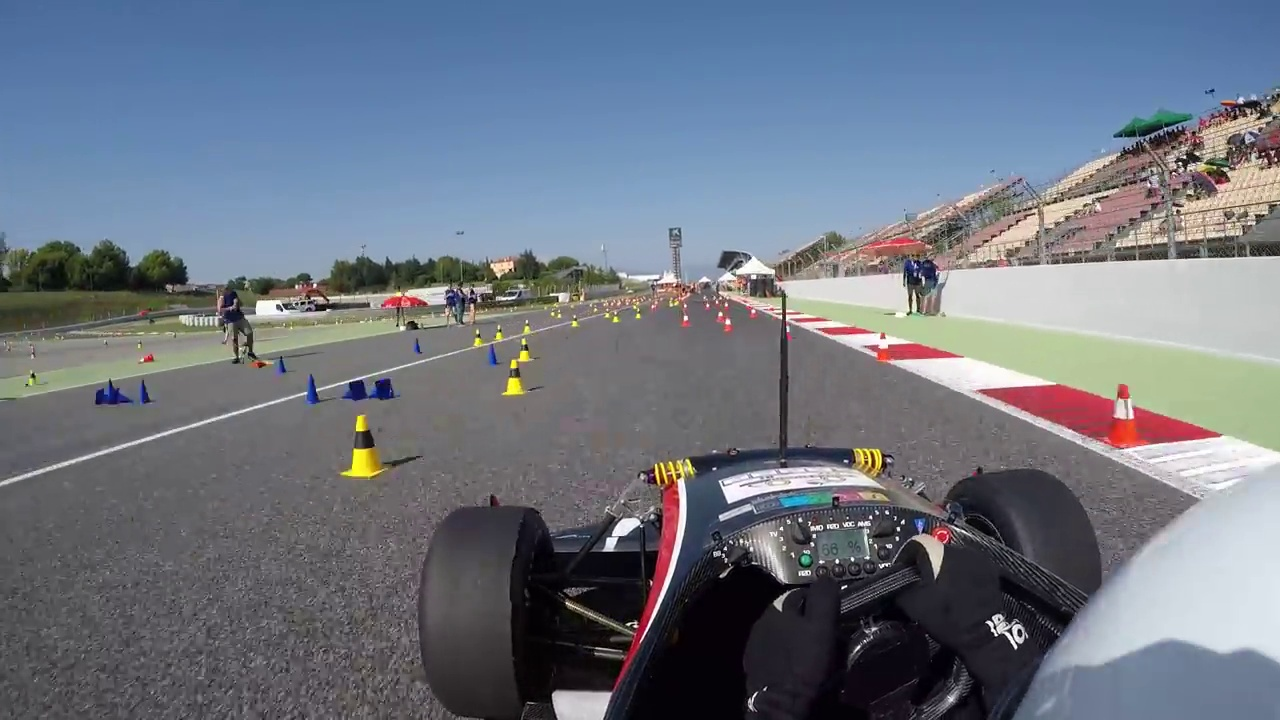Cone: (1102, 379, 1147, 452), (343, 411, 389, 476), (504, 358, 529, 397), (303, 371, 323, 406), (517, 335, 536, 361)
